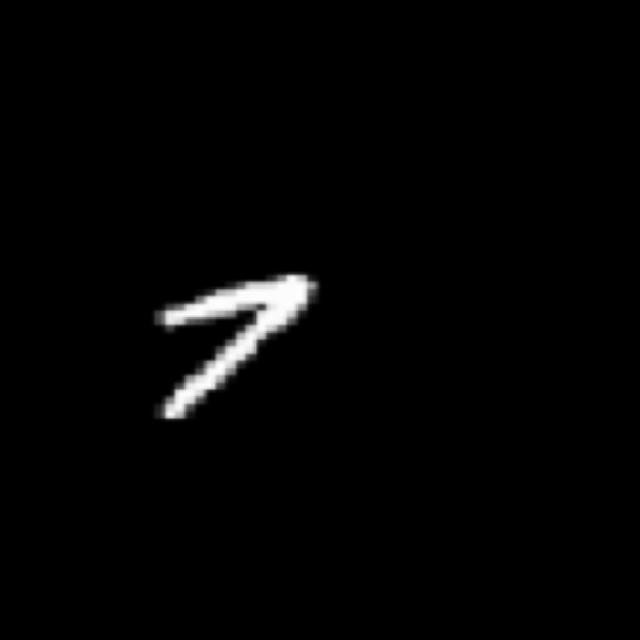seven -7-: (142, 277, 318, 424)
